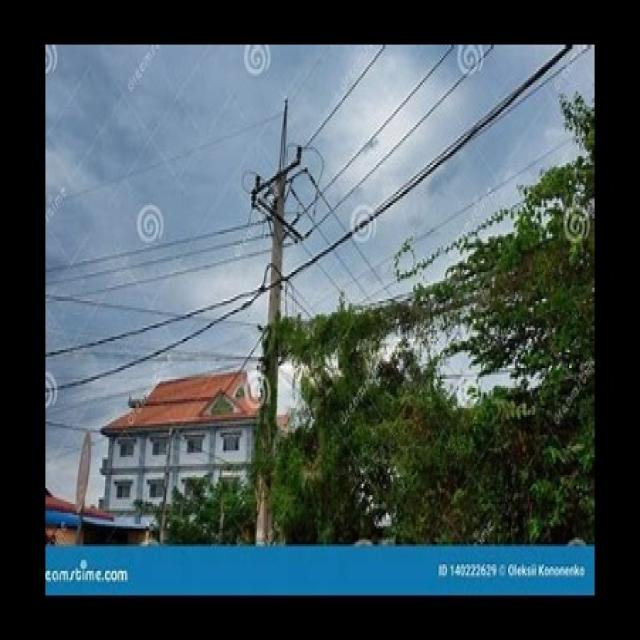critical vegetation: (272, 260, 595, 416)
